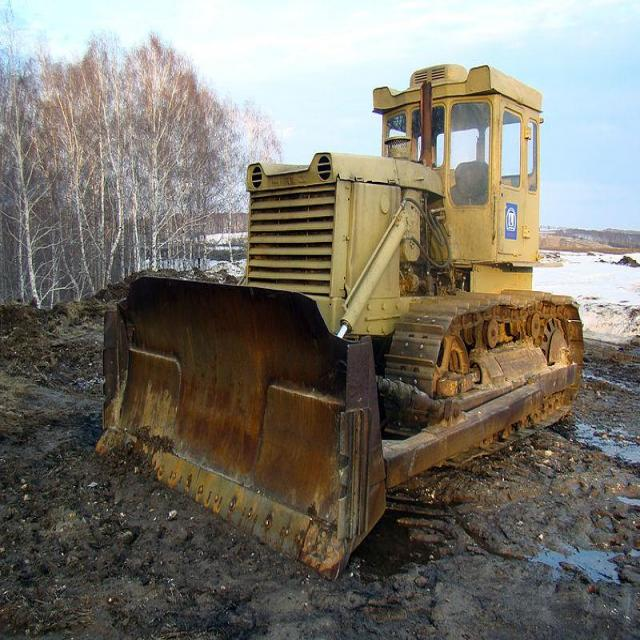Bulldozer: (66, 50, 603, 576)
